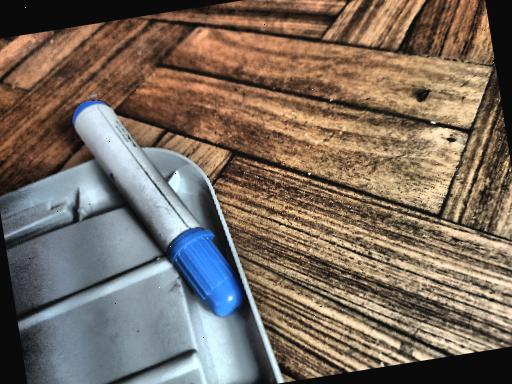marcador azul: (72, 100, 246, 316)
